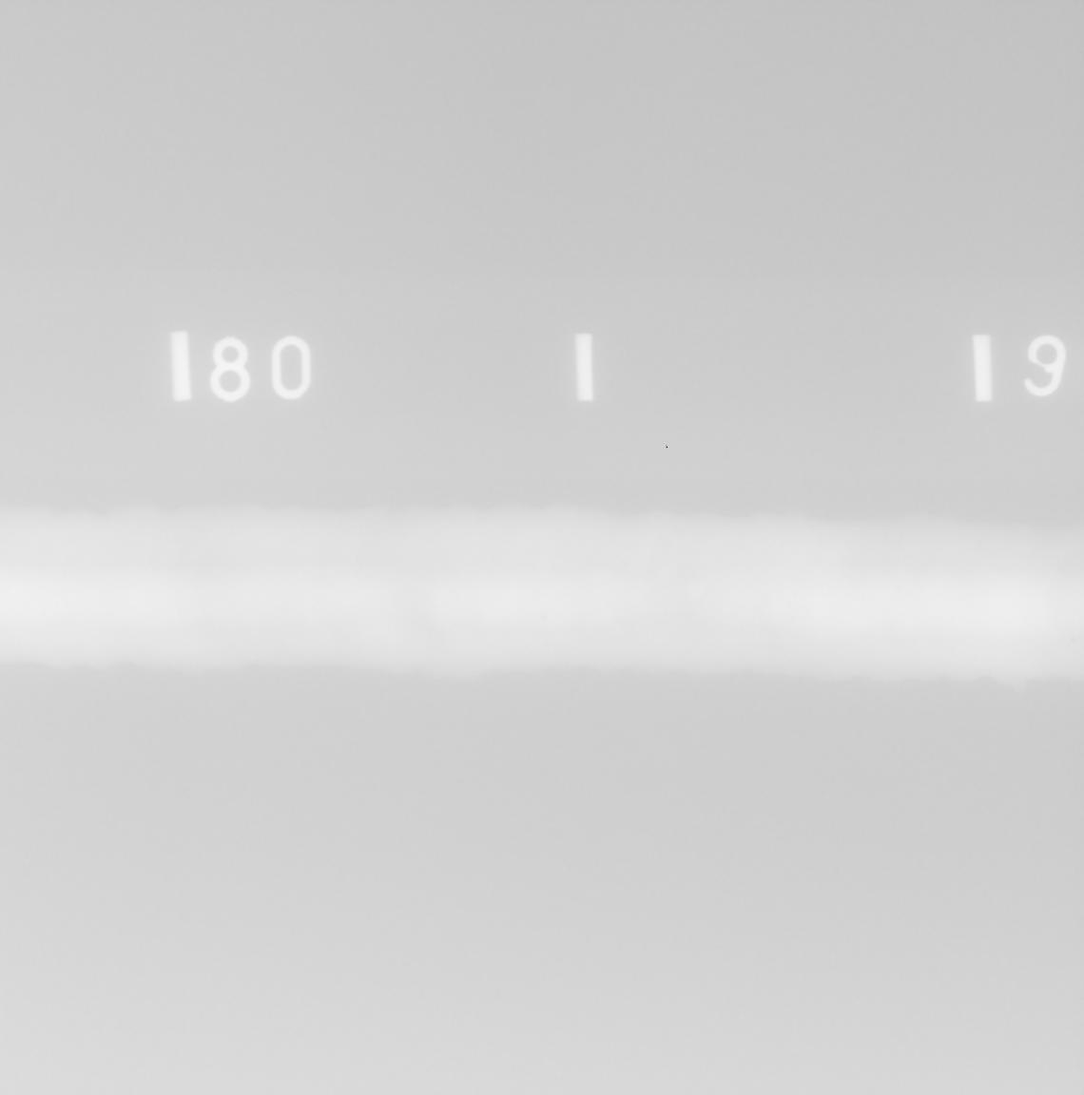Pore/Porosity: (896, 586, 902, 590), (542, 616, 546, 620), (365, 575, 369, 579), (788, 603, 792, 607), (705, 558, 708, 562), (744, 585, 747, 588), (1072, 638, 1074, 641)
